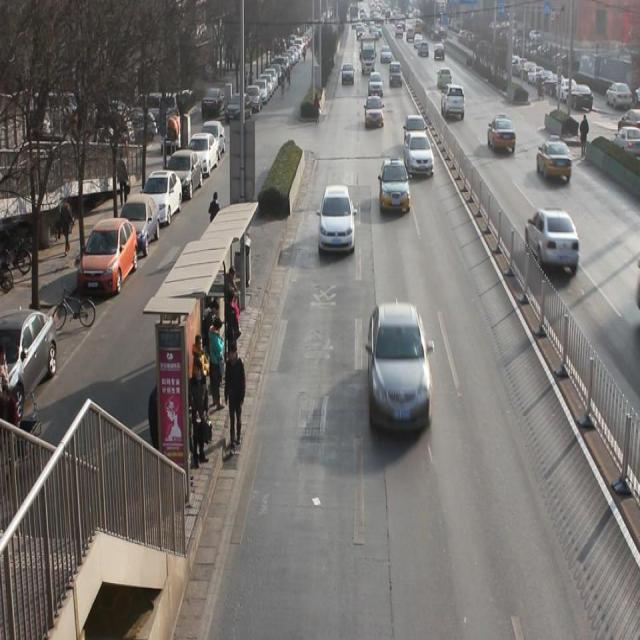car: (366, 303, 434, 433), (524, 206, 583, 273), (318, 185, 356, 252), (536, 137, 575, 184), (378, 158, 411, 212), (402, 134, 434, 178), (487, 114, 518, 155), (441, 85, 466, 120), (364, 95, 386, 128), (404, 114, 428, 142), (367, 70, 385, 96), (388, 61, 406, 87), (340, 62, 355, 85), (436, 68, 454, 86)
